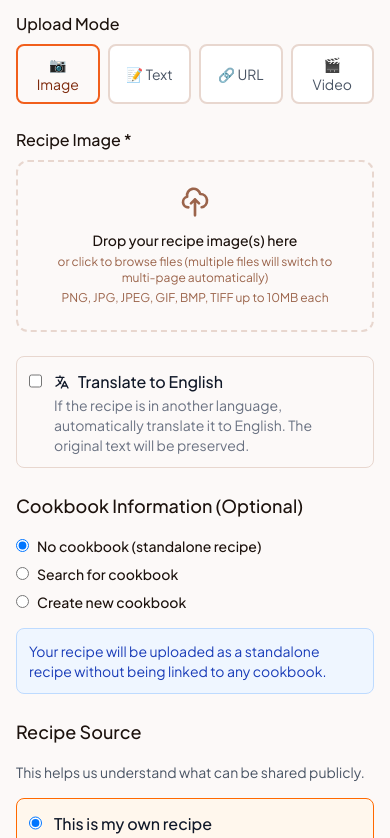
Test: UploadForm › Mode Selection › switches to text mode when text button clicked
The image size is (390, 838).
Click the button "📝 Text": (149, 74) 108,44 -> 191,104
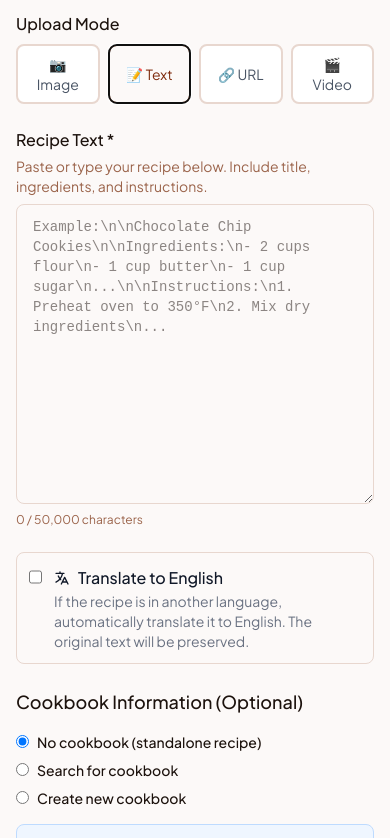
Expected: the text "Recipe Text *" is shown, 16,129 -> 115,150
Expected: the text box with placeholder "Example:" is shown, 16,204 -> 374,504
